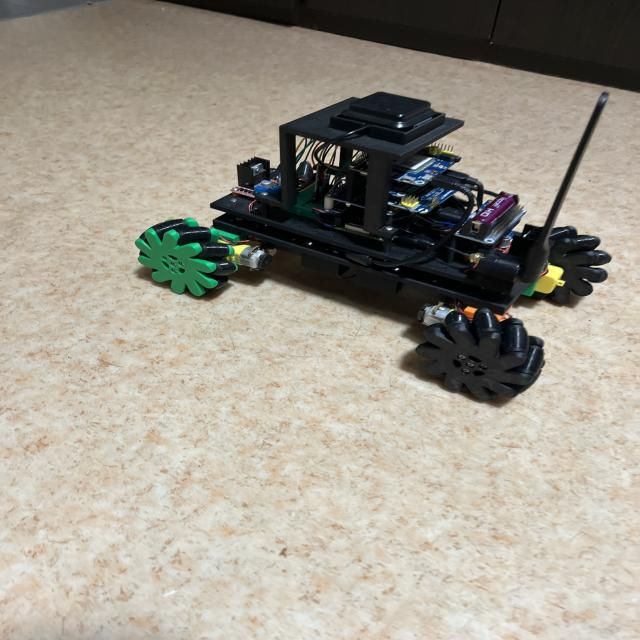robot: (135, 92, 611, 400)
